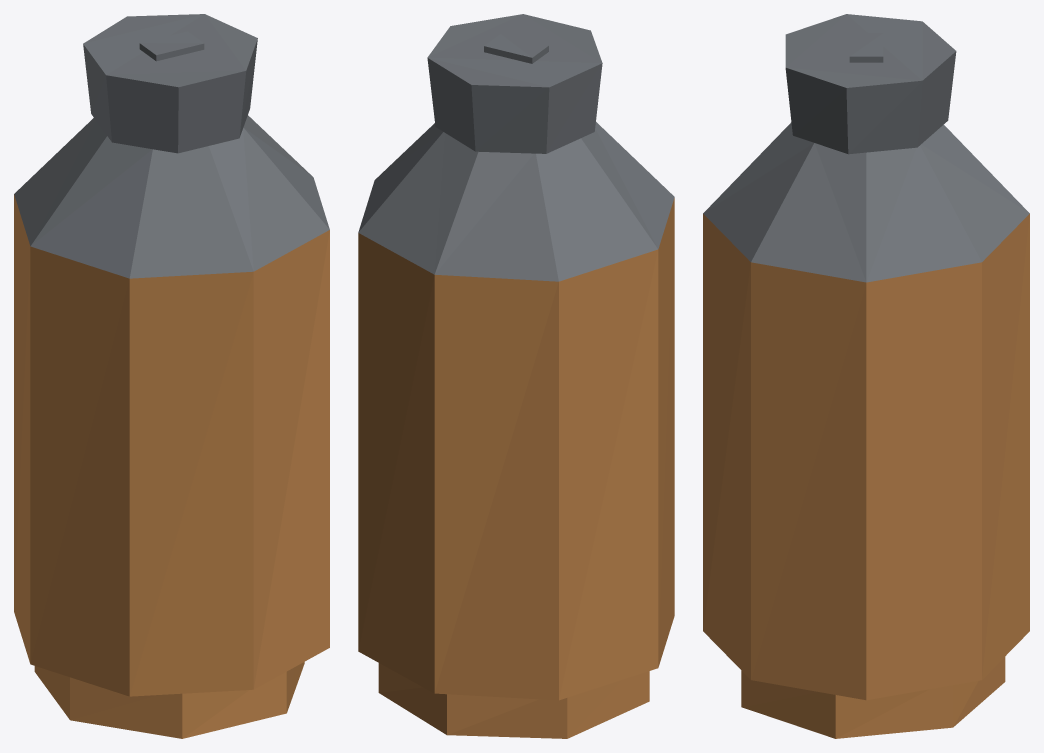
Rendered from gas-cylinder-00.glb.
3 views of the same model, side by side, from view 1: azimuth 30°, elevation 25°; view 2: azimuth 150°, elevation 25°; view 3: azimuth 270°, elevation 25° (orthographic).
Parts seen in each view (by area): view 1: gas_cylinder_00; view 2: gas_cylinder_00; view 3: gas_cylinder_00.
Boxes of the visible parts, box(x1,y1,x2,y2) form: gas_cylinder_00: box(14, 14, 329, 738); gas_cylinder_00: box(358, 14, 674, 738); gas_cylinder_00: box(703, 14, 1029, 738).
Size of the model in its own units: 0.2934 by 0.6307 by 0.2934.
